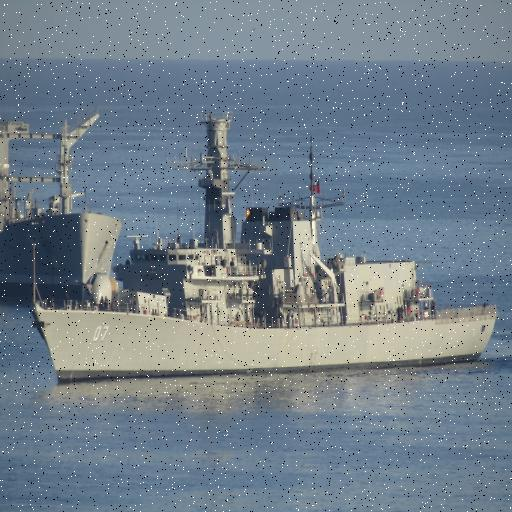Fragata: (31, 114, 499, 390)
